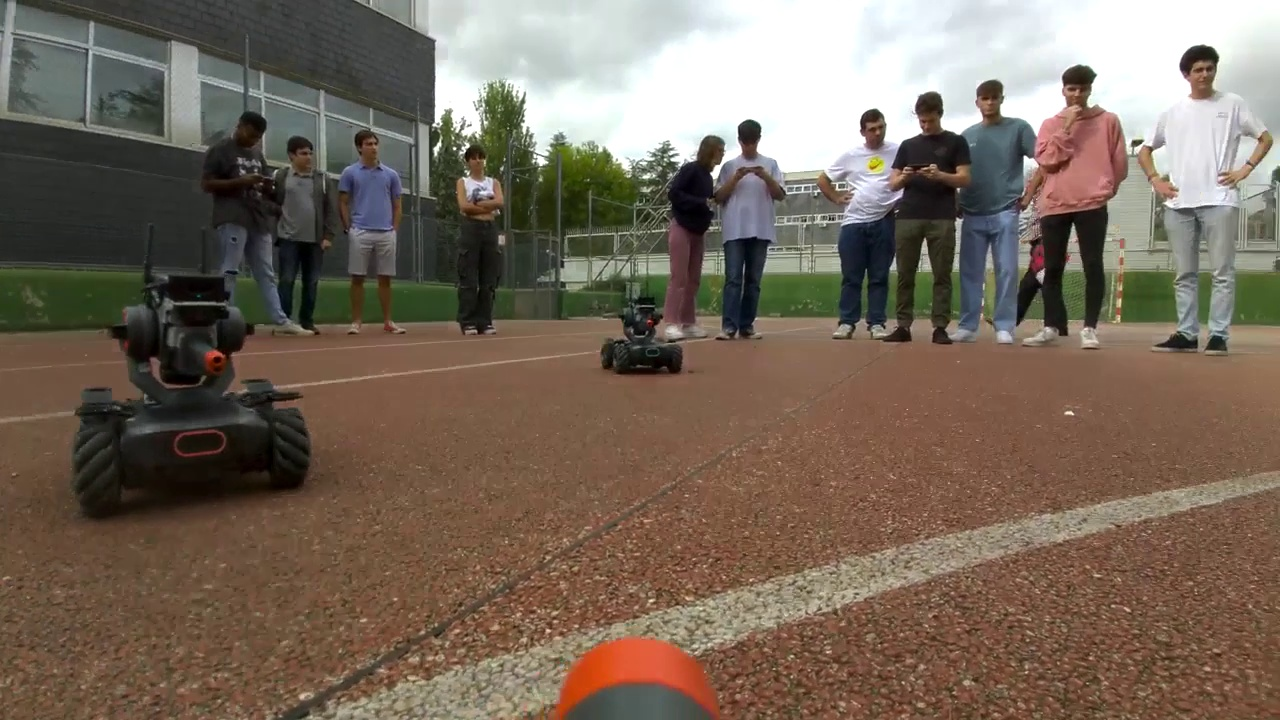robot: (74, 273, 318, 518), (602, 298, 682, 374)
